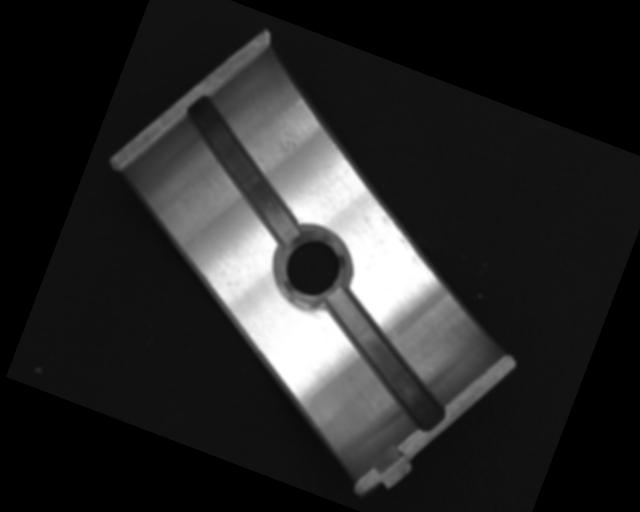gap: (155, 93, 334, 248), (298, 284, 472, 435)
hole: (266, 220, 358, 314)
